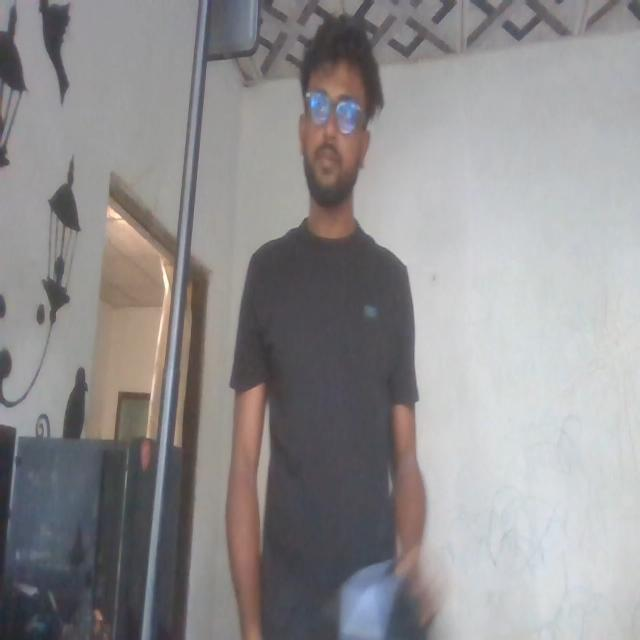Person: (220, 7, 444, 640)
